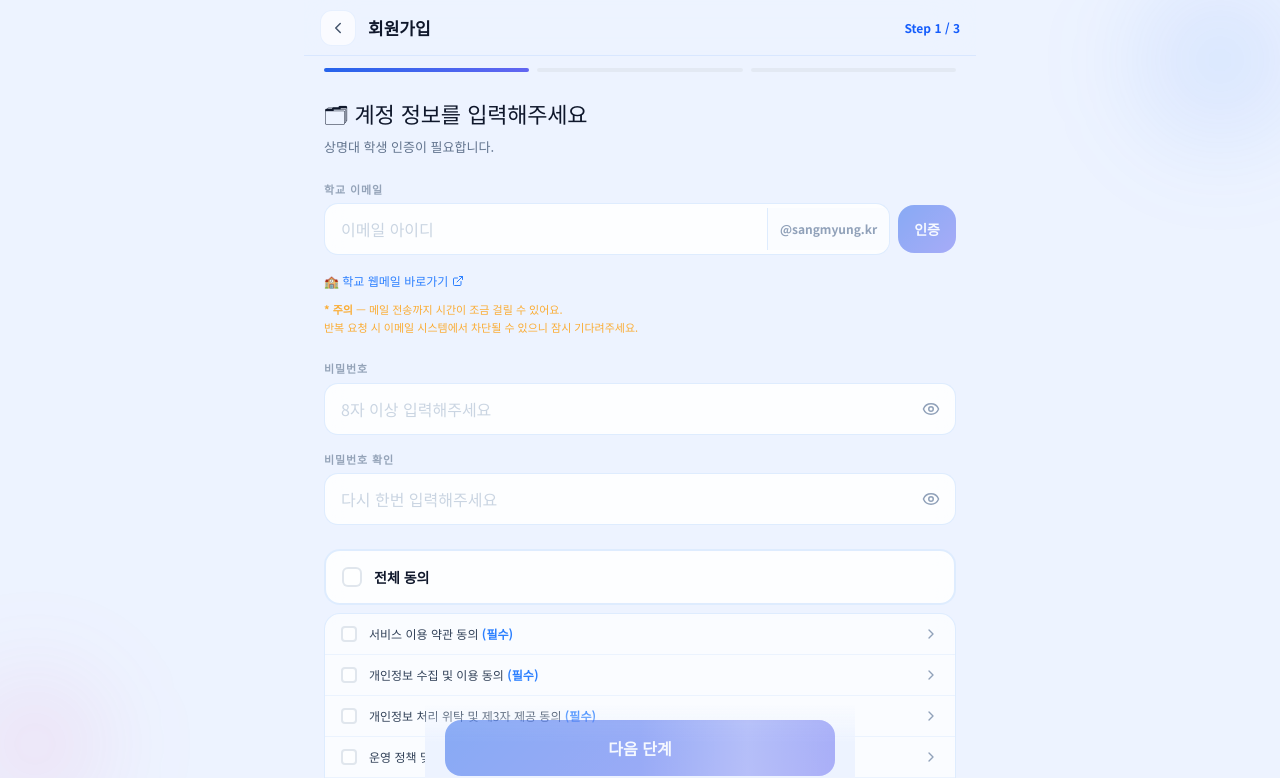
Scenario: SignupPage › 이메일 인증 완료 후 인증 완료 메시지 표시
In the field with placeholder "이메일 아이디": (546, 229) [325,204,767,254], type "testuser"
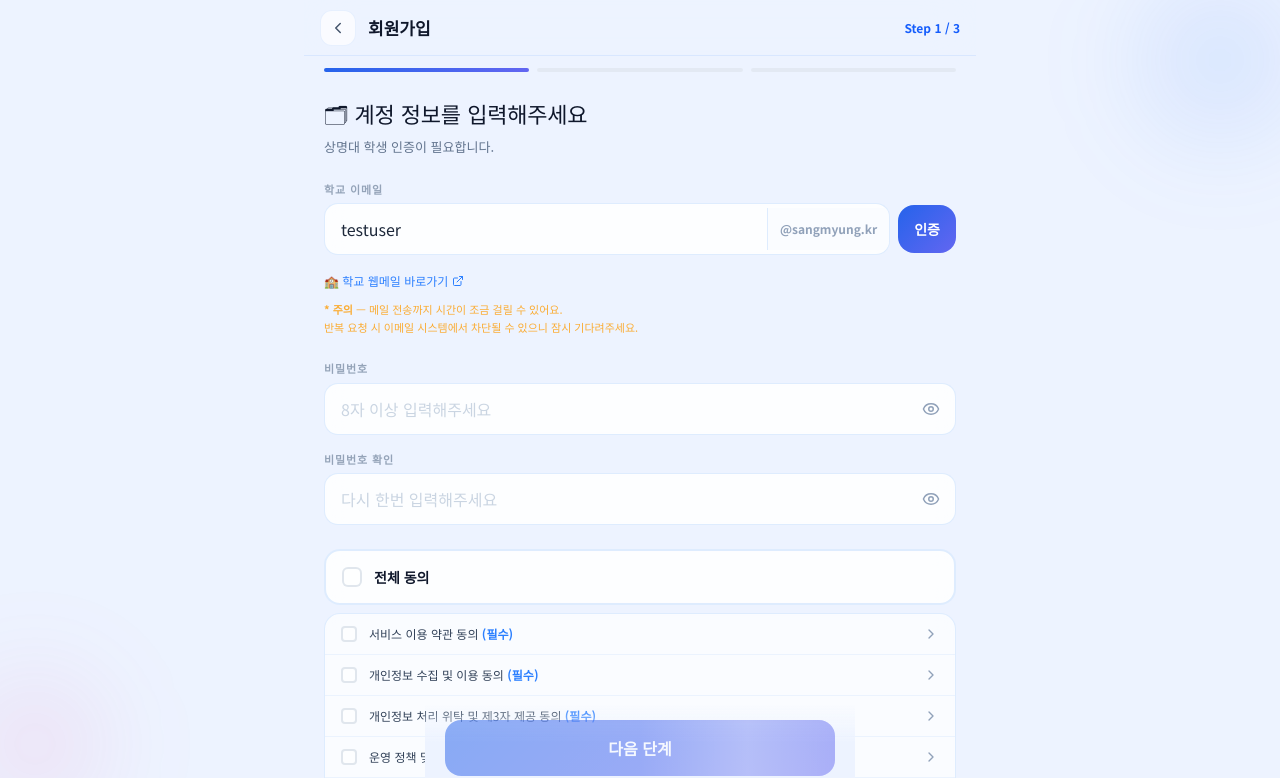
Click the button "인증": (927, 229) [898,205,956,253]
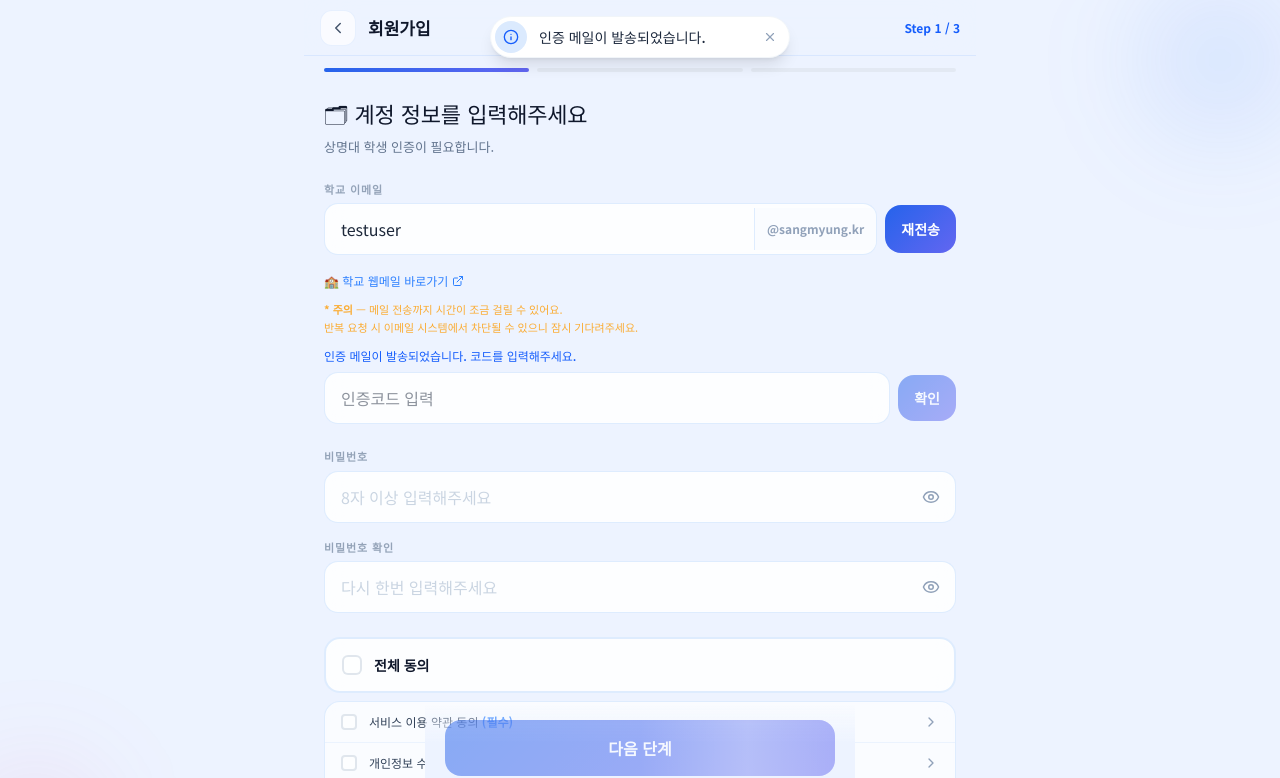
Now the field with placeholder "인증코드 입력" is shown
In the field with placeholder "인증코드 입력": (607, 398) [324,372,890,424], type "123456"
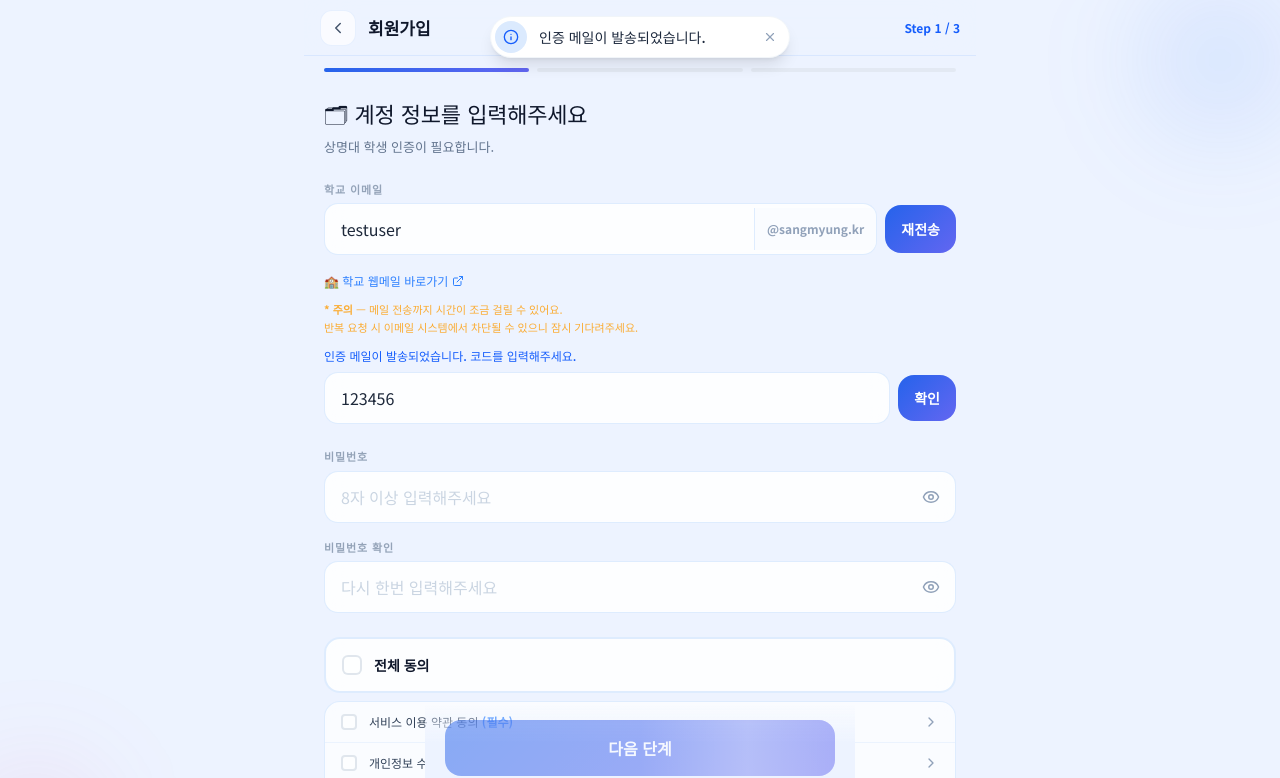
Click the button "확인": (927, 398) [898,375,956,421]
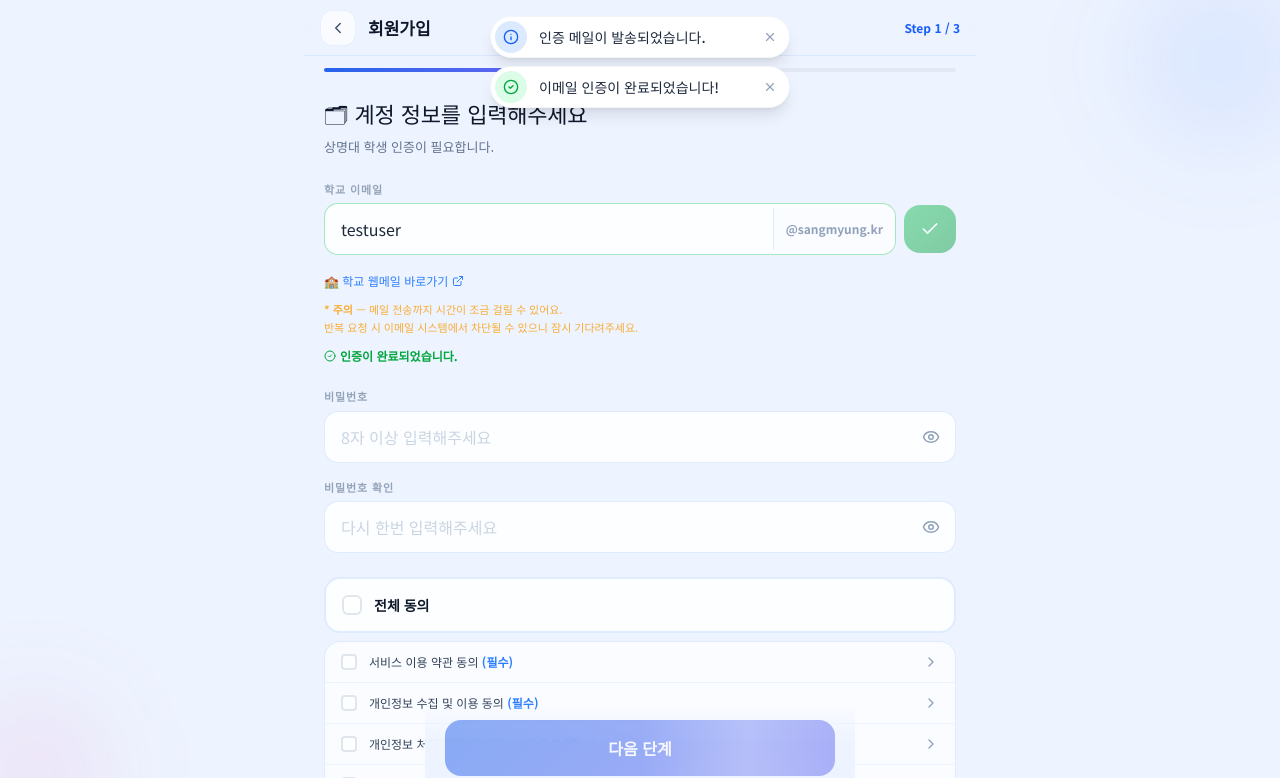
Now the text "인증이 완료되었습니다." is shown, box [324,347,458,364]
